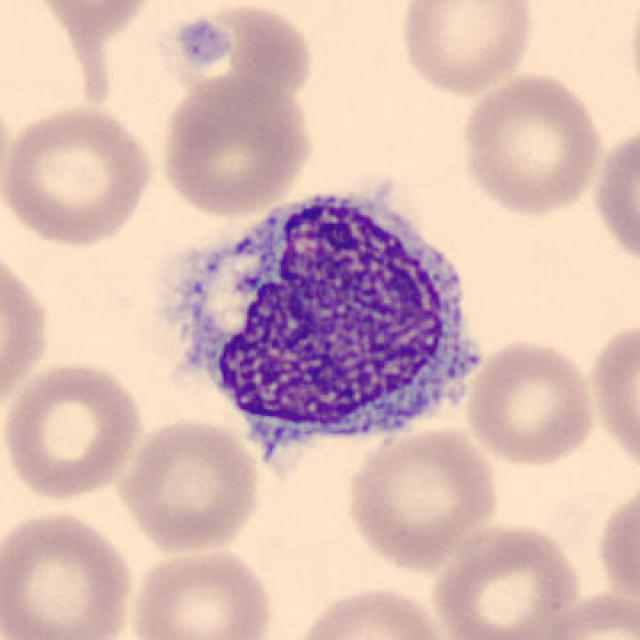Monocyte: (139, 171, 496, 478)
Platelets: (172, 14, 226, 72)
RBC: (341, 421, 503, 573), (0, 102, 158, 249), (156, 74, 316, 219), (457, 68, 606, 218), (0, 356, 146, 504), (114, 414, 265, 556), (0, 506, 139, 640), (430, 520, 585, 640), (160, 0, 318, 115), (462, 335, 599, 467), (125, 541, 278, 640), (394, 0, 538, 99), (0, 240, 55, 428), (288, 582, 452, 640), (585, 314, 638, 478), (590, 118, 638, 275), (528, 585, 638, 640), (25, 0, 160, 39), (595, 491, 640, 605), (0, 83, 14, 220)
